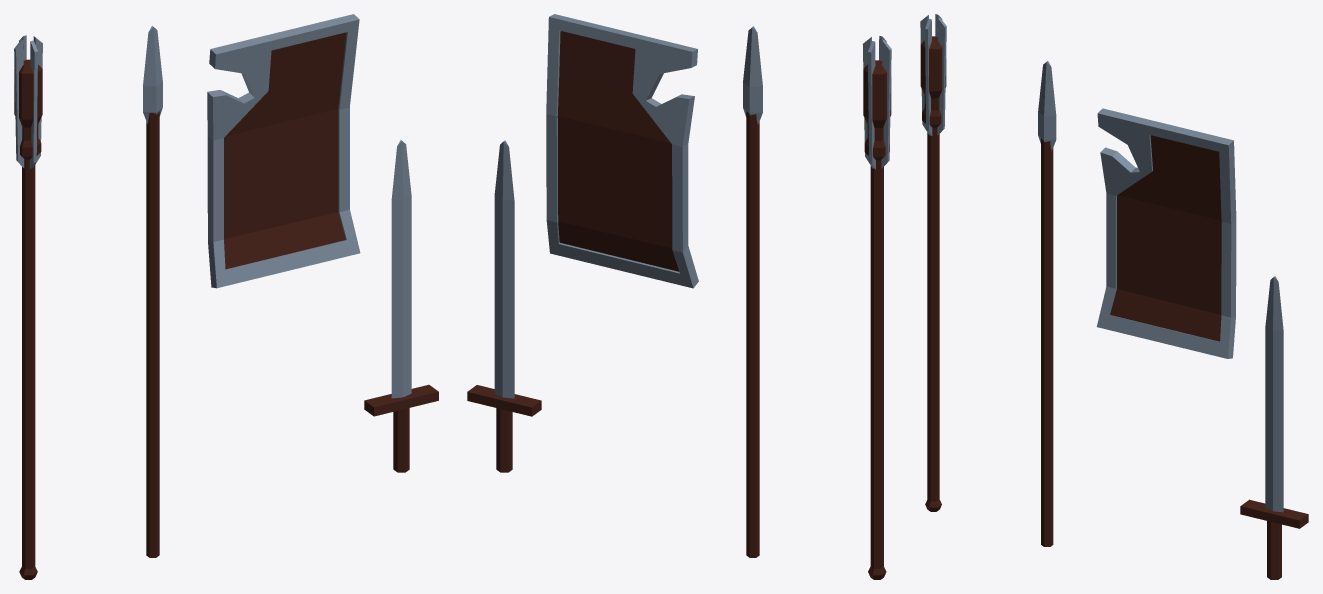
The model's file is DemoWeapons.fbx.
3 renders of one model, left to right at view 1: azimuth 30°, elevation 25°; view 2: azimuth 150°, elevation 25°; view 3: azimuth 330°, elevation 25°, orthographic. The views are drawn at different scales.
Parts seen in each view (by area): view 1: Shield, Staff, Spear, Sword; view 2: Shield, Staff, Spear, Sword; view 3: Shield, Staff, Spear, Sword.
Boxes of the visible parts, x1,y1,x2,y2 form: Shield: [207, 14, 360, 288]; Staff: [14, 35, 42, 579]; Spear: [143, 26, 162, 557]; Sword: [364, 140, 438, 472]; Shield: [546, 14, 698, 288]; Staff: [862, 36, 891, 579]; Spear: [743, 26, 762, 557]; Sword: [467, 140, 541, 472]; Shield: [1096, 108, 1236, 358]; Staff: [920, 14, 946, 511]; Spear: [1038, 61, 1056, 546]; Sword: [1240, 276, 1308, 579].
Size of the model in its own units: 337 by 421 by 21.82.
